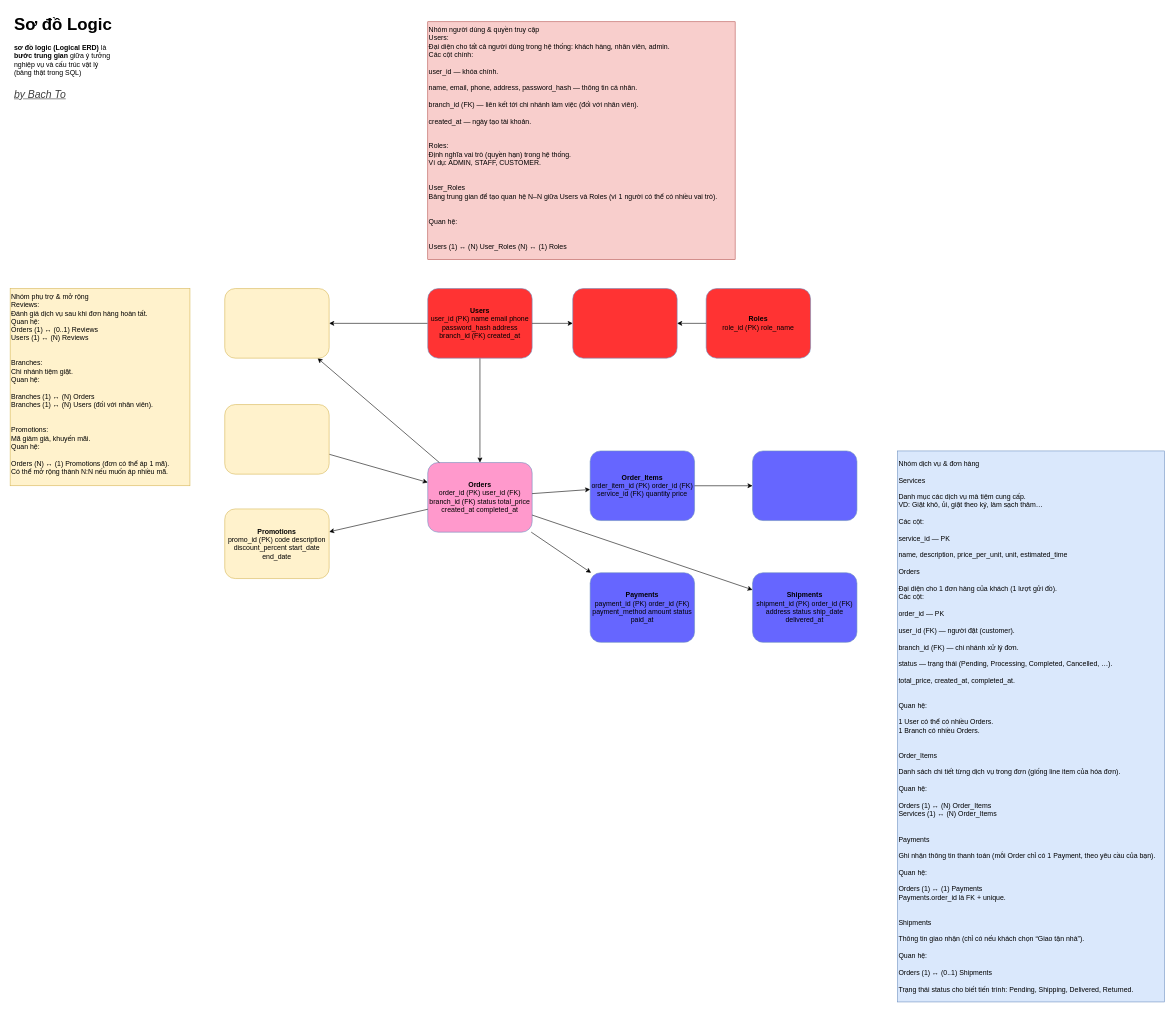
Some shapes in this 1175 by 1012 pixel diagram are drawn without their labels. Here are the shapes that lost their labels. From the top down, the centre of each, then its label:
the point at 276,323: Reviews review_id (PK) order_id (FK) user_id (FK) rating comment created_at
the point at 624,323: User_Roles user_id (FK) role_id (FK)
the point at 276,439: Branches branch_id (PK) branch_name address phone
the point at 804,485: Services service_id (PK) name description price_per_unit unit estimated_time
